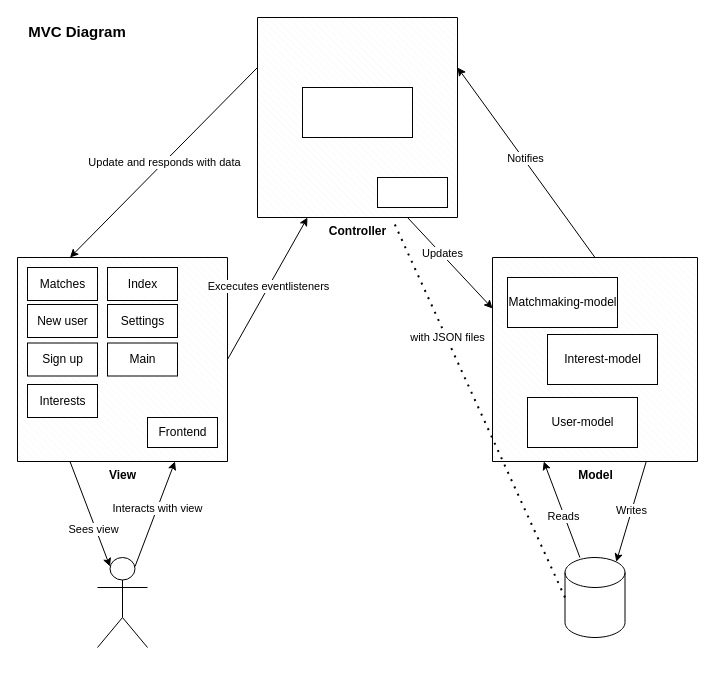
Some shapes in this 715 by 686 pixel diagram are drawn without their labels. The centre of each missing label's shape, as x and y in pixels:
Actor: pixel 122 602
API/Server: pixel 357 112
Backend: pixel 412 192
Storage: pixel 594 597
